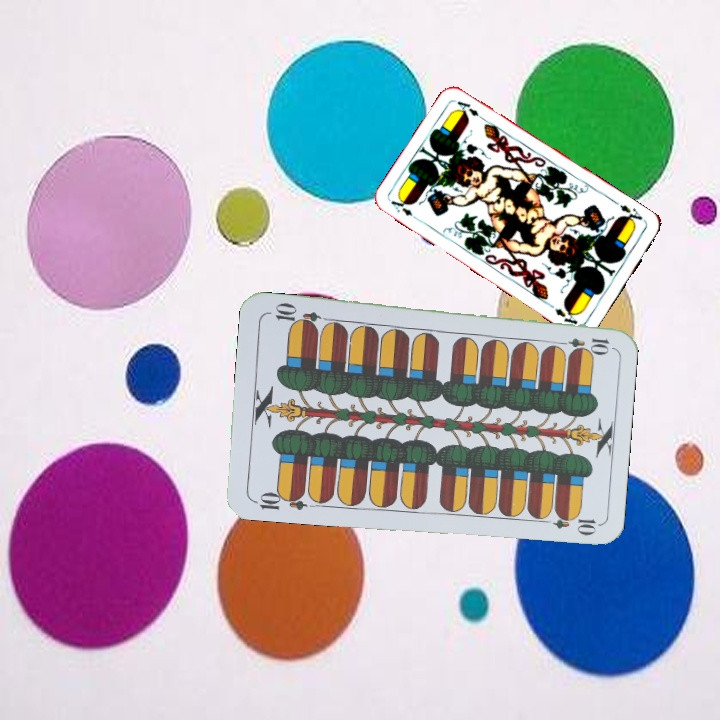E10: (249, 486, 308, 513), (553, 333, 612, 353)
EA: (386, 193, 423, 224), (615, 200, 645, 227)
